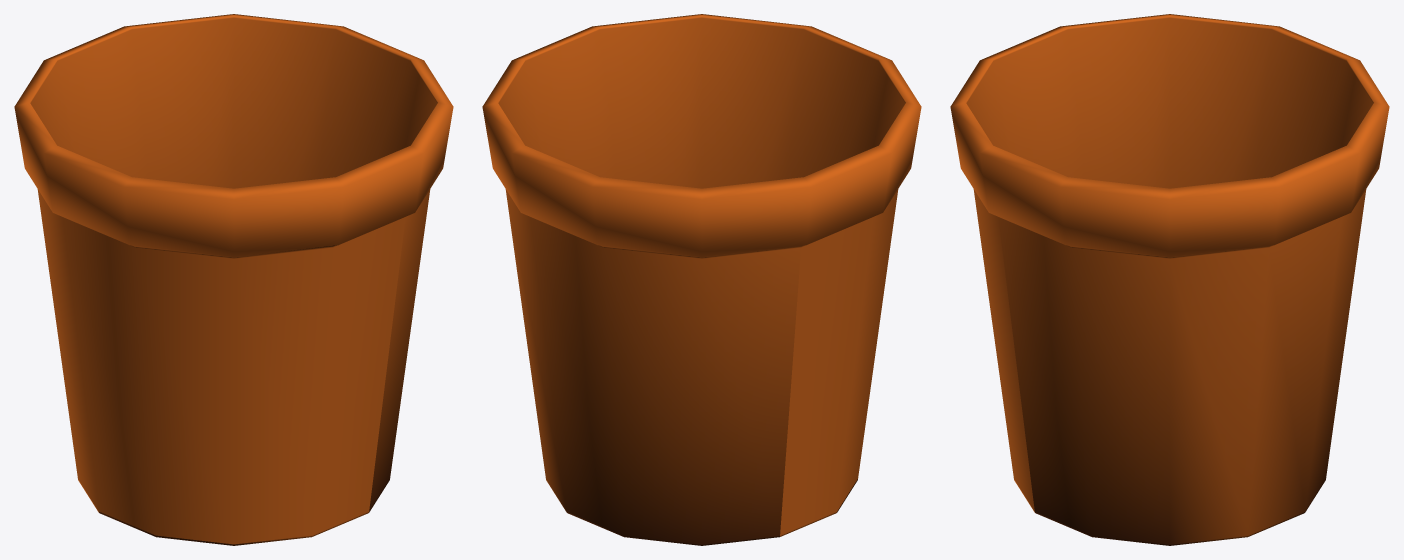
Rendered from plantpot.fbx.
3 views of the same model, side by side, from view 1: azimuth 30°, elevation 25°; view 2: azimuth 150°, elevation 25°; view 3: azimuth 270°, elevation 25° (orthographic).
Visible parts, largest first — view 1: Cylinder; view 2: Cylinder; view 3: Cylinder.
Boxes of the visible parts, box(x1,y1,x2,y2) form: Cylinder: box(14, 14, 453, 545); Cylinder: box(482, 14, 921, 545); Cylinder: box(950, 14, 1389, 545).
Size of the model in its own units: 47.23 by 44.82 by 47.23.
